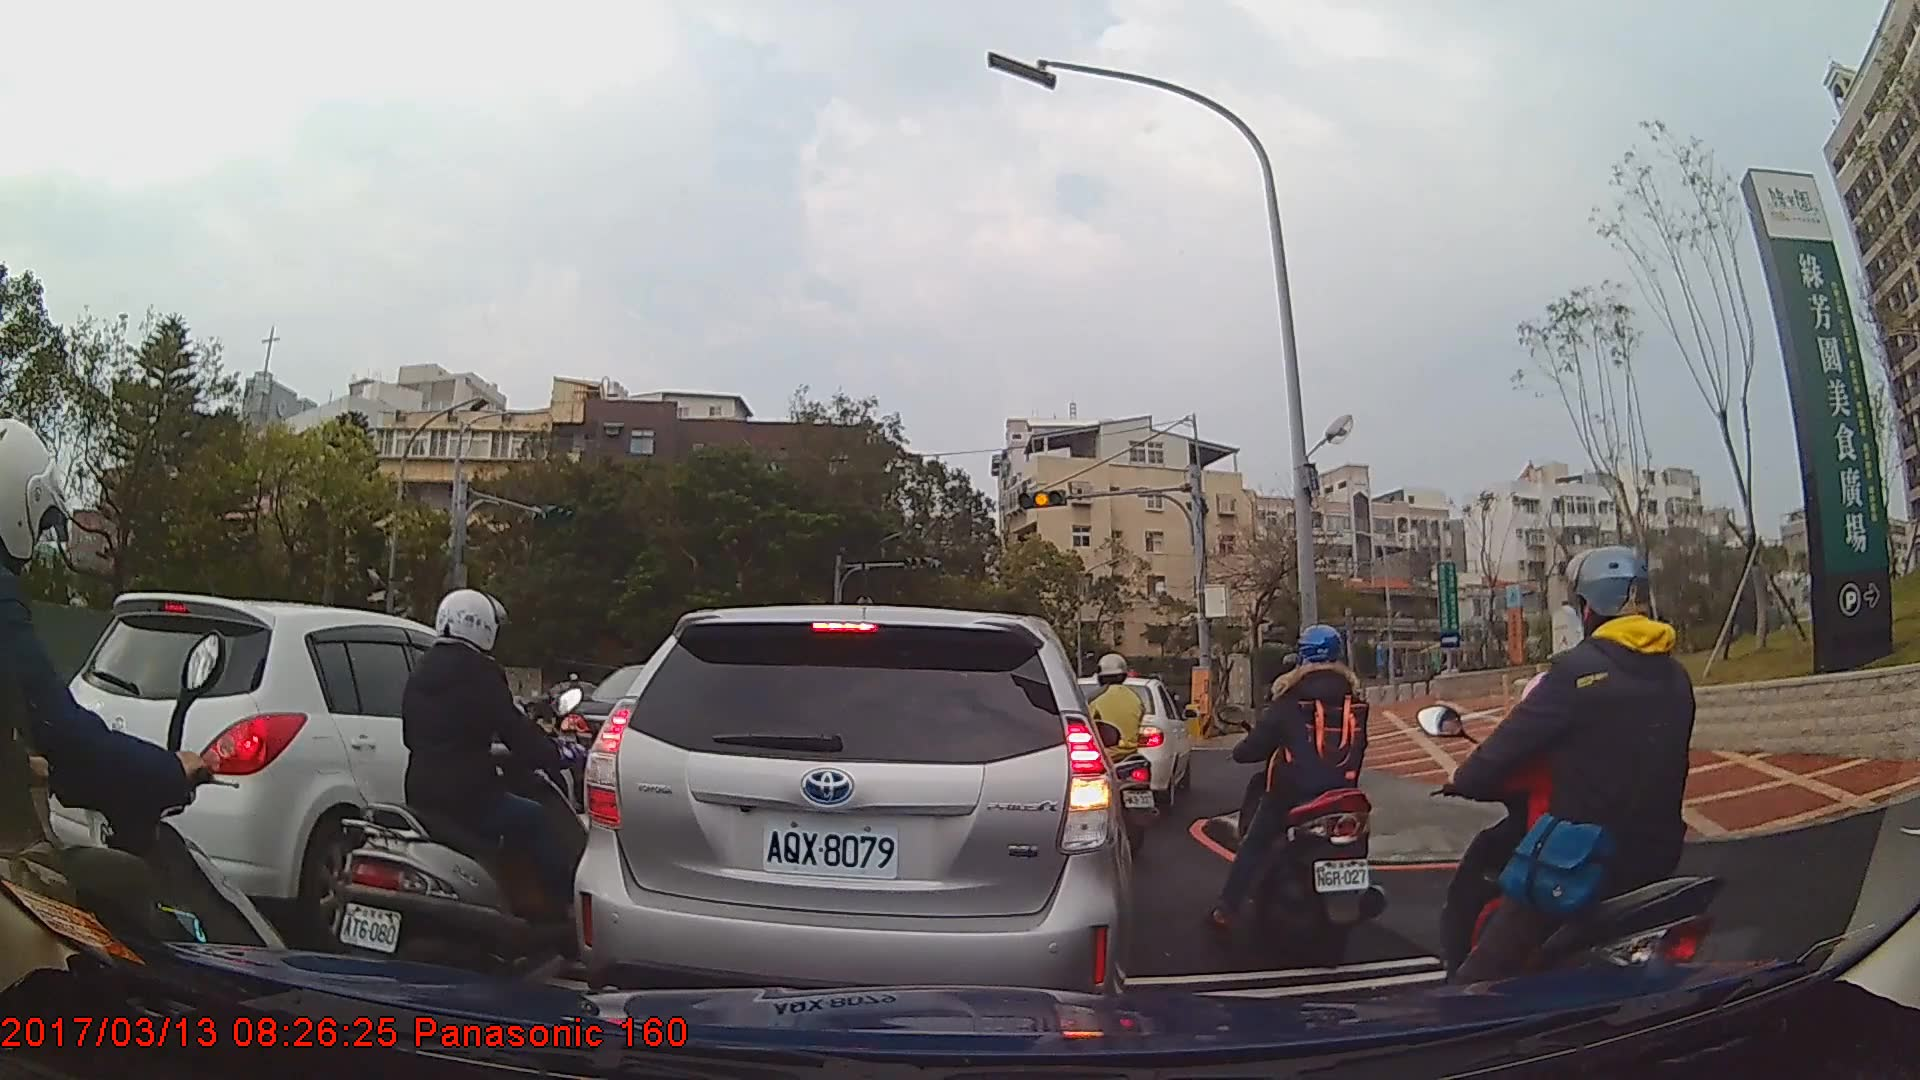rider: (1, 416, 299, 1080), (1427, 547, 1731, 1048), (341, 588, 609, 989), (1199, 619, 1398, 966), (1063, 651, 1159, 853)
vehicle: (568, 601, 1138, 1033), (42, 591, 573, 932), (557, 664, 777, 804)
